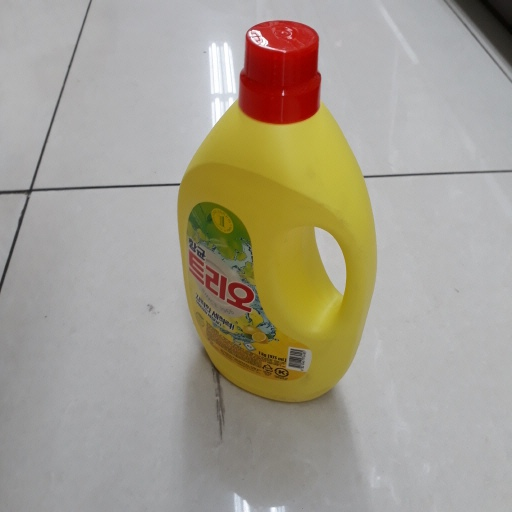Plastic_1: (177, 16, 379, 407)
